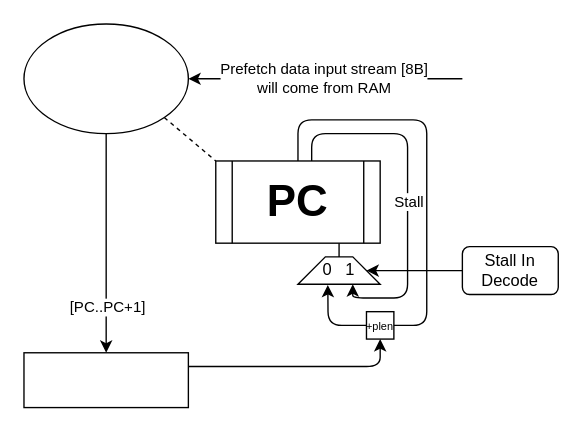
Image size: 582x432. Some labels were removed from this diagram. Each missing label, with the box of its shape:
[opcode | flags] 2 bytes: (23, 351, 188, 408)
INSTRUCTION CACHE [256B]: (23, 23, 188, 134)
